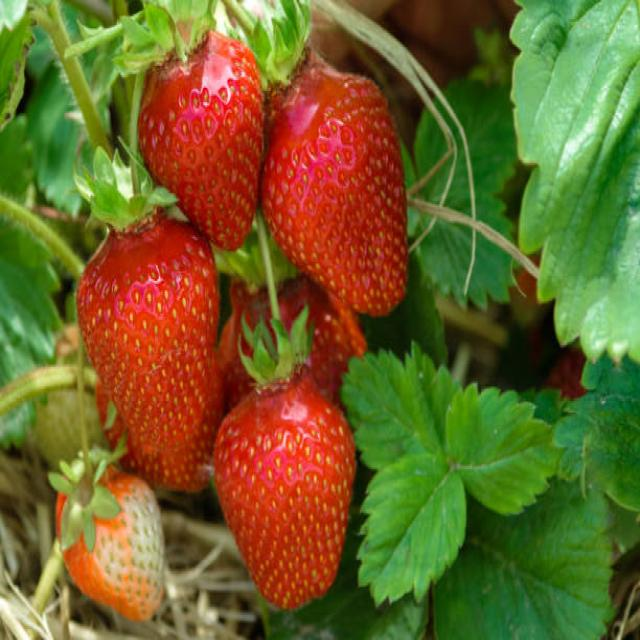Healthy Fruit: (261, 68, 409, 312), (78, 220, 218, 447), (216, 385, 354, 609), (140, 33, 264, 252), (56, 472, 166, 618)
